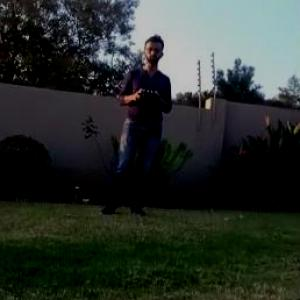follow: (96, 26, 174, 216)
